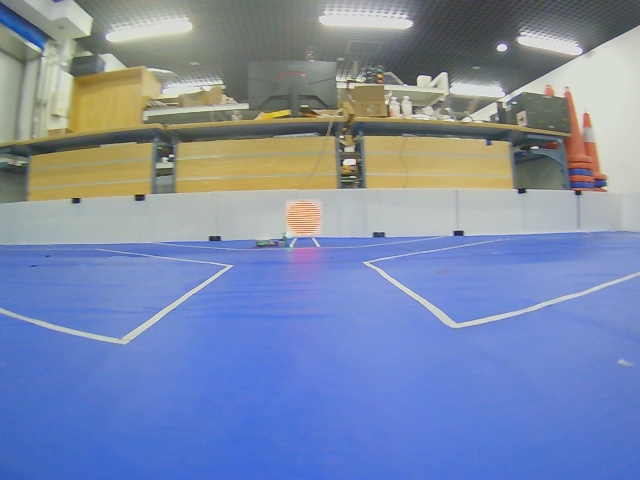red: (285, 200, 322, 236)
